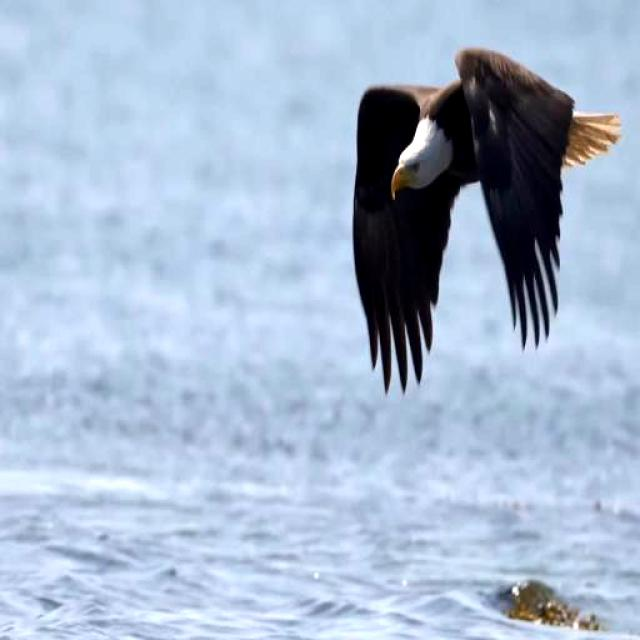airplane: (338, 34, 620, 392)
